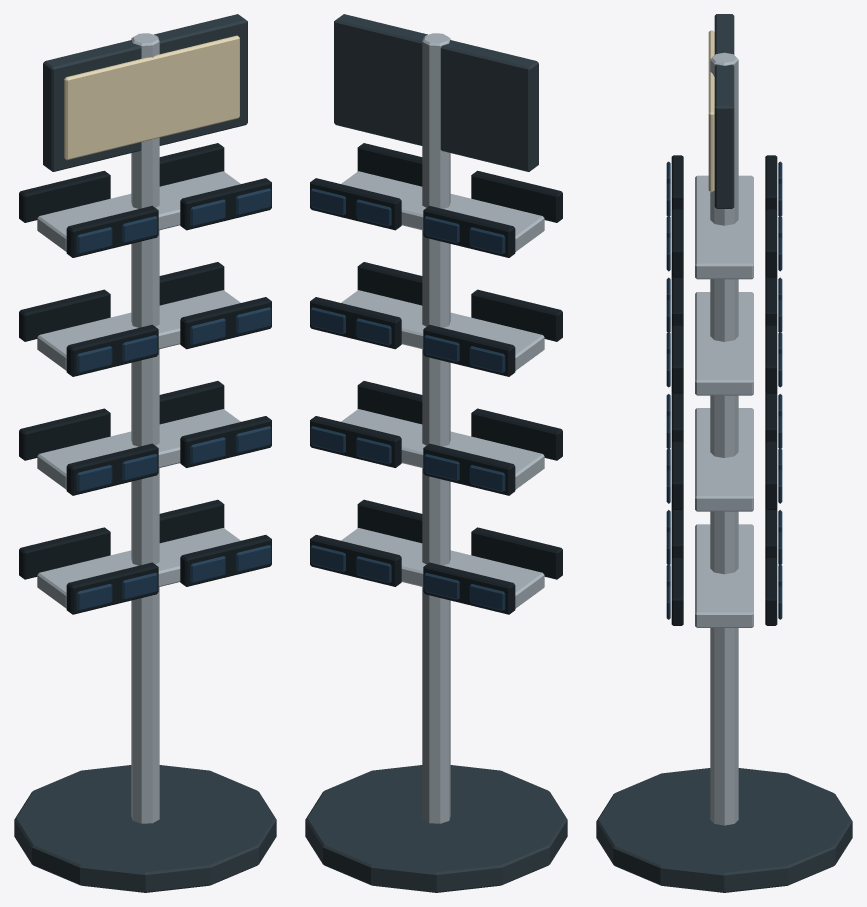
The model's file is b10_rotating_sunglasses_display.glb.
3 views of the same model, side by side, from view 1: azimuth 30°, elevation 25°; view 2: azimuth 150°, elevation 25°; view 3: azimuth 270°, elevation 25° (orthographic). The views are drawn at different scales.
Visible parts, largest first — view 1: b10_rotating_sunglasses_display; view 2: b10_rotating_sunglasses_display; view 3: b10_rotating_sunglasses_display.
Part boxes in pixels (bbox=[...]): b10_rotating_sunglasses_display: bbox=[14, 14, 276, 892]; b10_rotating_sunglasses_display: bbox=[305, 14, 567, 892]; b10_rotating_sunglasses_display: bbox=[596, 14, 852, 892].
Bounding box in the file's own units: 0.52 × 1.75 × 0.52.
